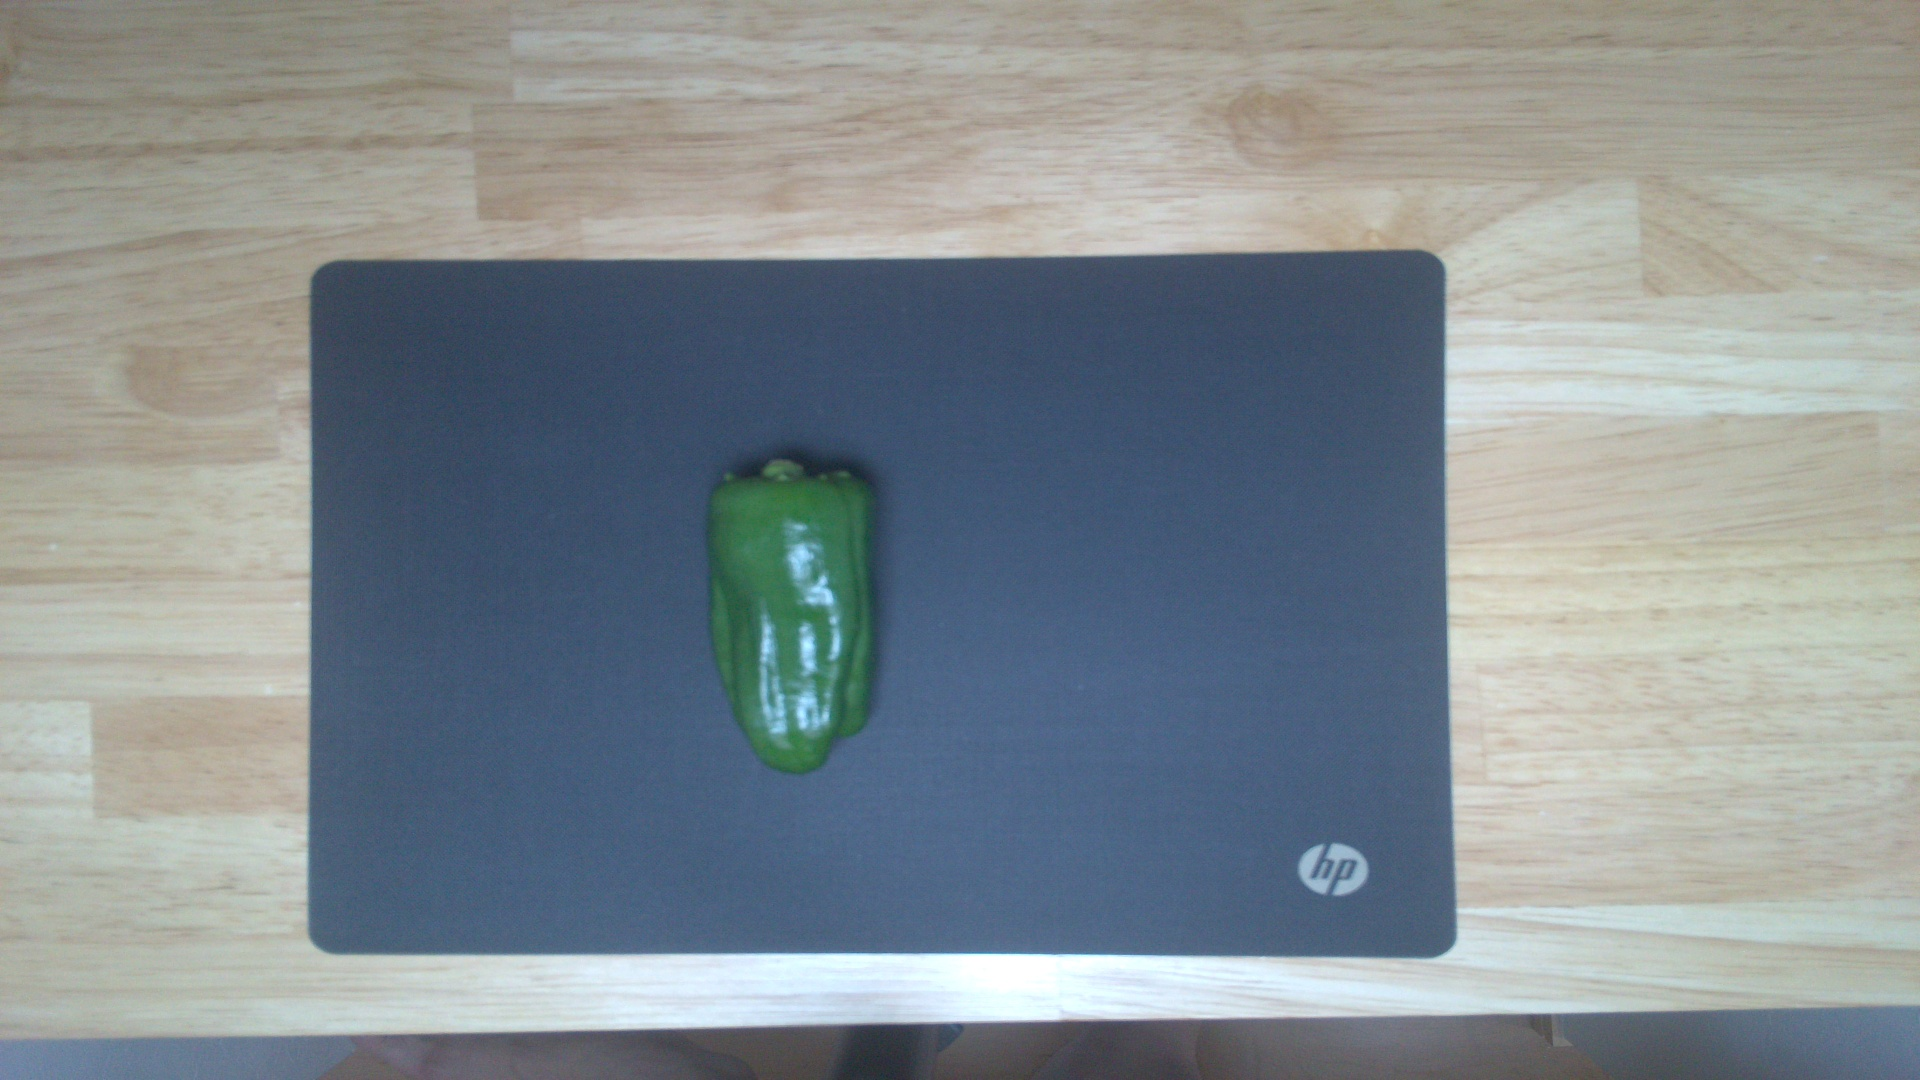Piman: (702, 456, 884, 775)
